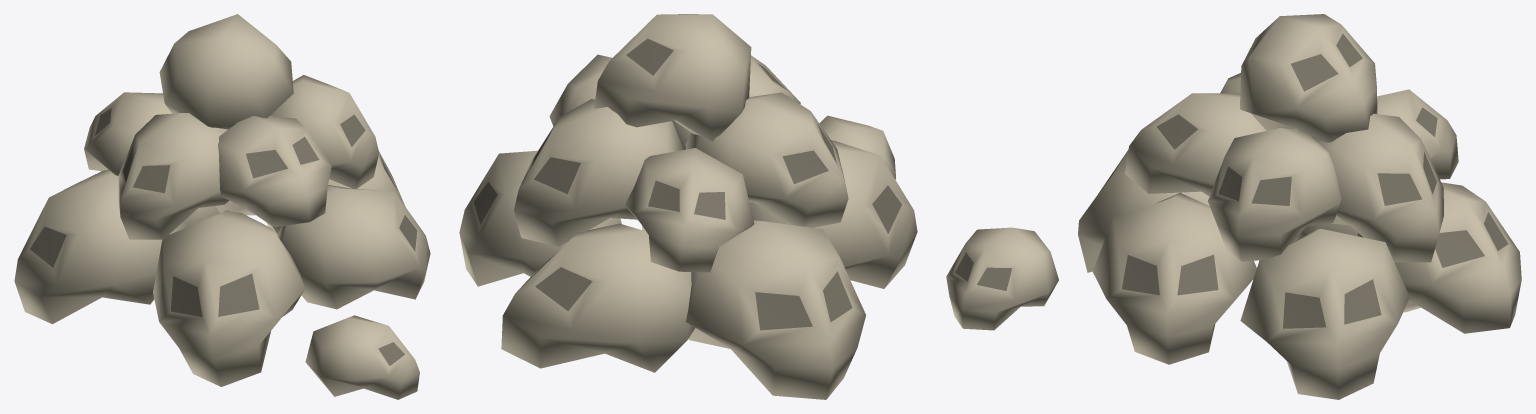
The model's file is pile of skeletons_01.FBX.
3 views of the same model, side by side, from view 1: azimuth 30°, elevation 25°; view 2: azimuth 150°, elevation 25°; view 3: azimuth 270°, elevation 25° (orthographic). The views are drawn at different scales.
Visible parts, largest first — view 1: pile of skeletons_01; view 2: pile of skeletons_01; view 3: pile of skeletons_01.
Boxes of the visible parts, <box> form: pile of skeletons_01: <box>14,14,430,399</box>; pile of skeletons_01: <box>459,14,917,399</box>; pile of skeletons_01: <box>946,14,1521,399</box>.
Size of the model in its own units: 23.37 by 17.28 by 29.63.
